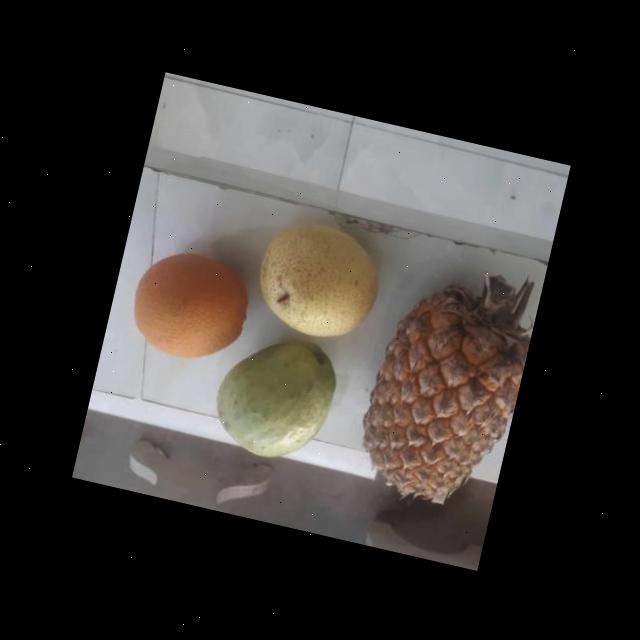guava: (208, 329, 344, 467)
orange: (120, 242, 260, 370)
pear: (248, 209, 398, 348)
pineapple: (352, 263, 539, 510)
